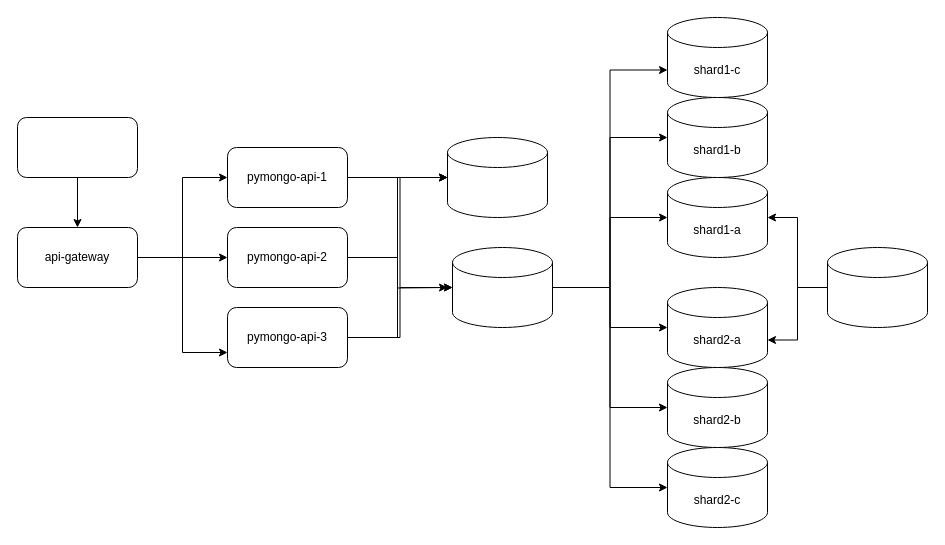
Some shapes in this 945 by 545 pixel diagram are drawn without their labels. Each missing label, with the centre of its shape:
configSrv: (x=877, y=287)
consul: (x=77, y=147)
mongos_router: (x=502, y=287)
redis-1: (x=497, y=177)
